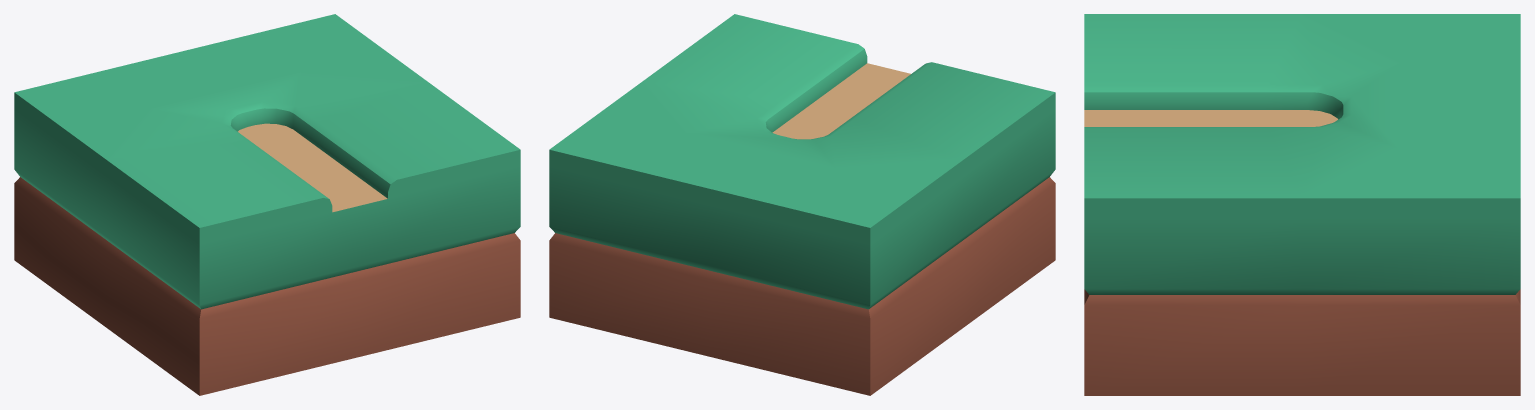
Rendered from square_forest_roadA_detail.glb.
The picture shows the model from 3 angles, left to right: view 1: azimuth 30°, elevation 25°; view 2: azimuth 150°, elevation 25°; view 3: azimuth 270°, elevation 25°; orthographic projection. The views are drawn at different scales.
Visible parts, largest first — view 1: square_forest_roadA_detail; view 2: square_forest_roadA_detail; view 3: square_forest_roadA_detail.
Boxes of the visible parts, x1=… form: square_forest_roadA_detail: x1=14, y1=14, x2=520, y2=395; square_forest_roadA_detail: x1=549, y1=14, x2=1055, y2=395; square_forest_roadA_detail: x1=1084, y1=14, x2=1520, y2=395.
Bounding box in the file's own units: 2 × 1 × 2.
